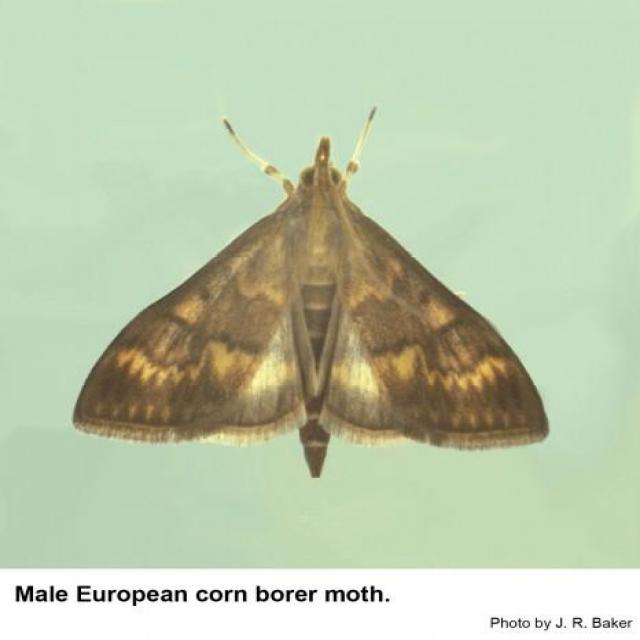cornborer-Adult-: (41, 97, 572, 500)
